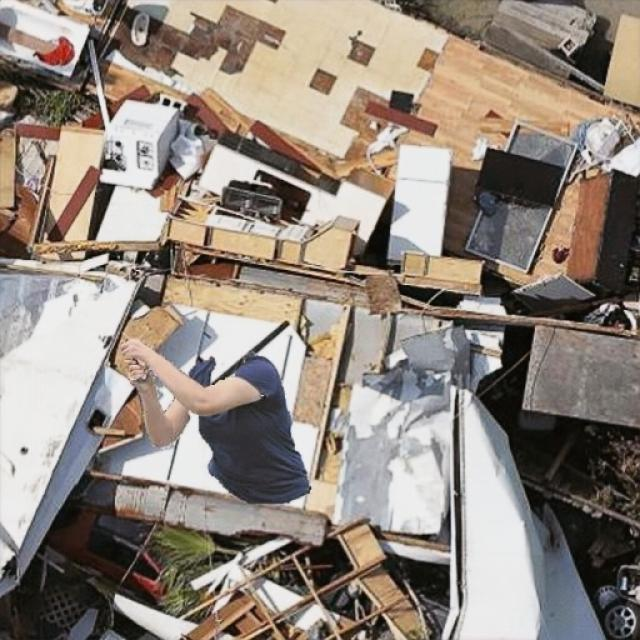Person in Rubble: (121, 338, 310, 502)
